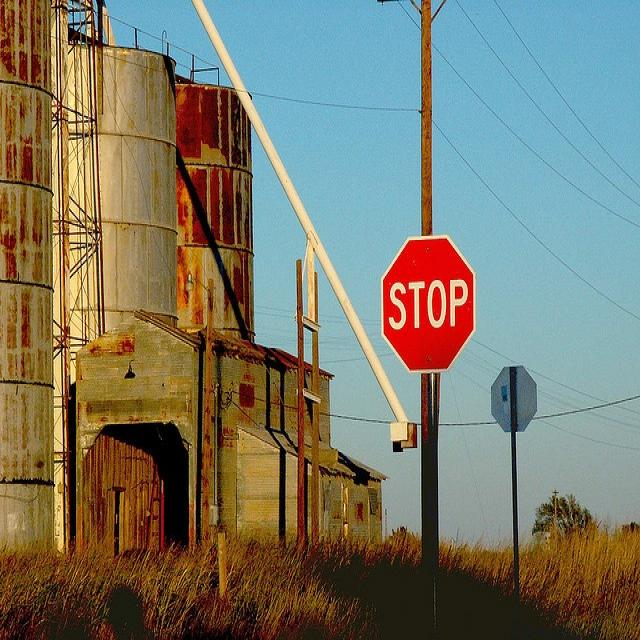pole: (419, 363, 444, 633), (504, 365, 523, 611)
